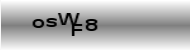8: (85, 18, 98, 31)
F: (71, 24, 83, 37)
W: (56, 13, 80, 25)
o: (31, 18, 44, 28)
s: (45, 18, 58, 27)
